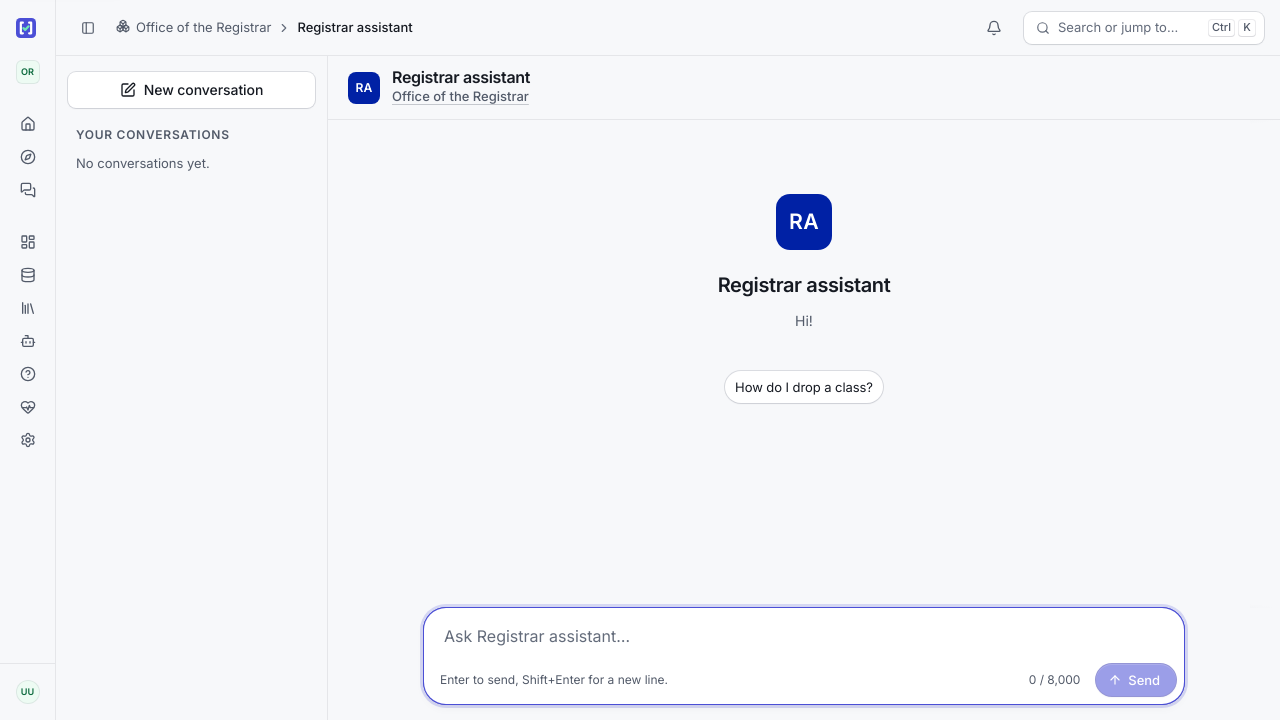
Test: chips under the answer › waits for citations_checked when message_end says the citations are being checked
Type "How do I drop a class?" into the text box named "Message Registrar assistant" at (804, 638), box [432,616,1176,660]
Then press Enter
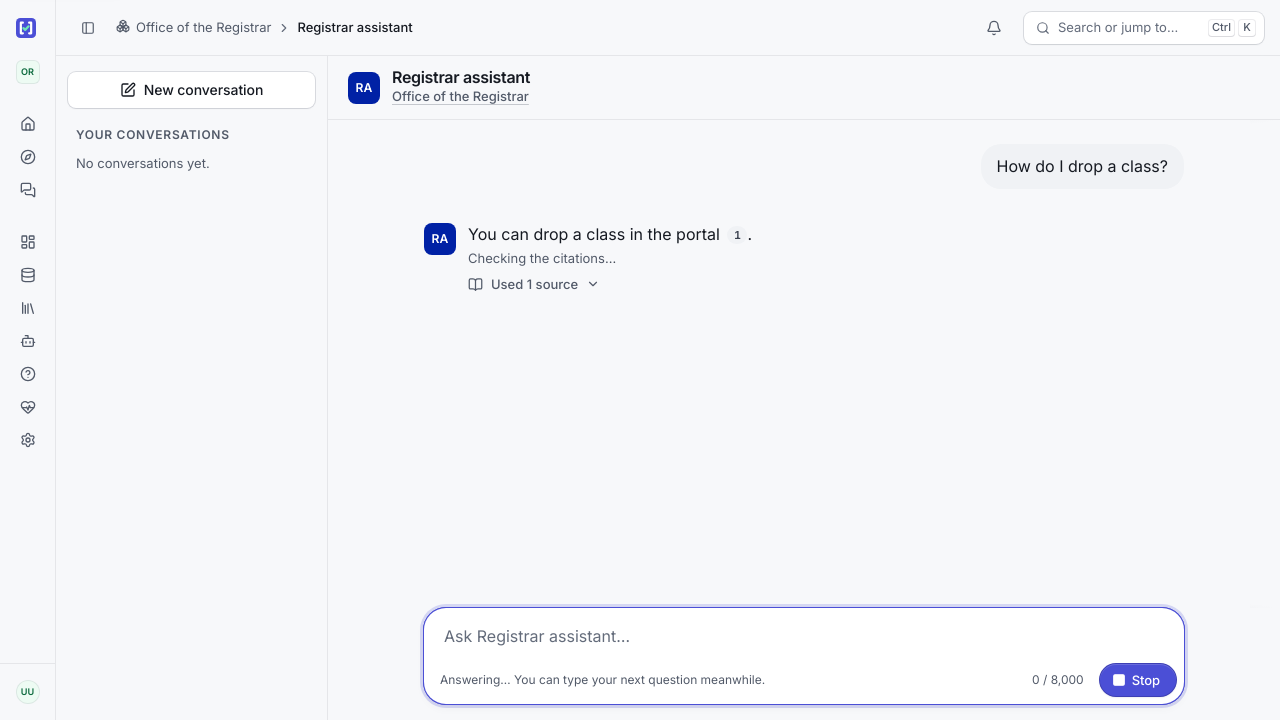
Now the text "Checking the citations…" is shown, box [468,250,616,266]
Now the button "Stop" is shown, box [1100,664,1176,696]
